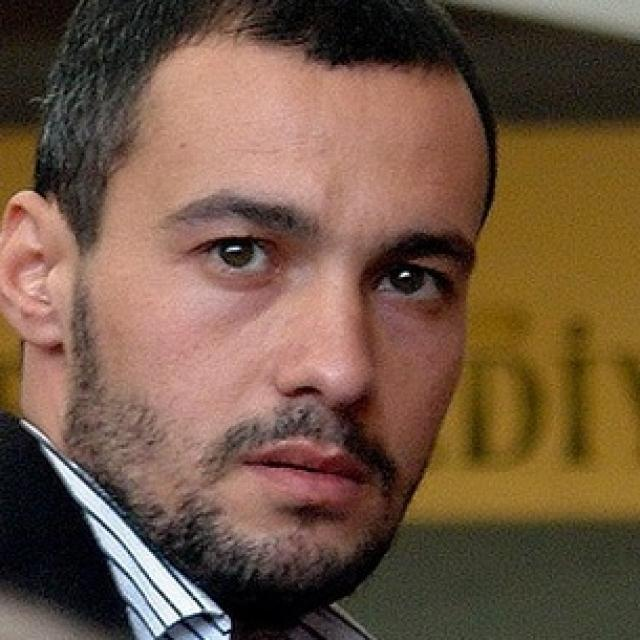Depress: (76, 44, 496, 607)
